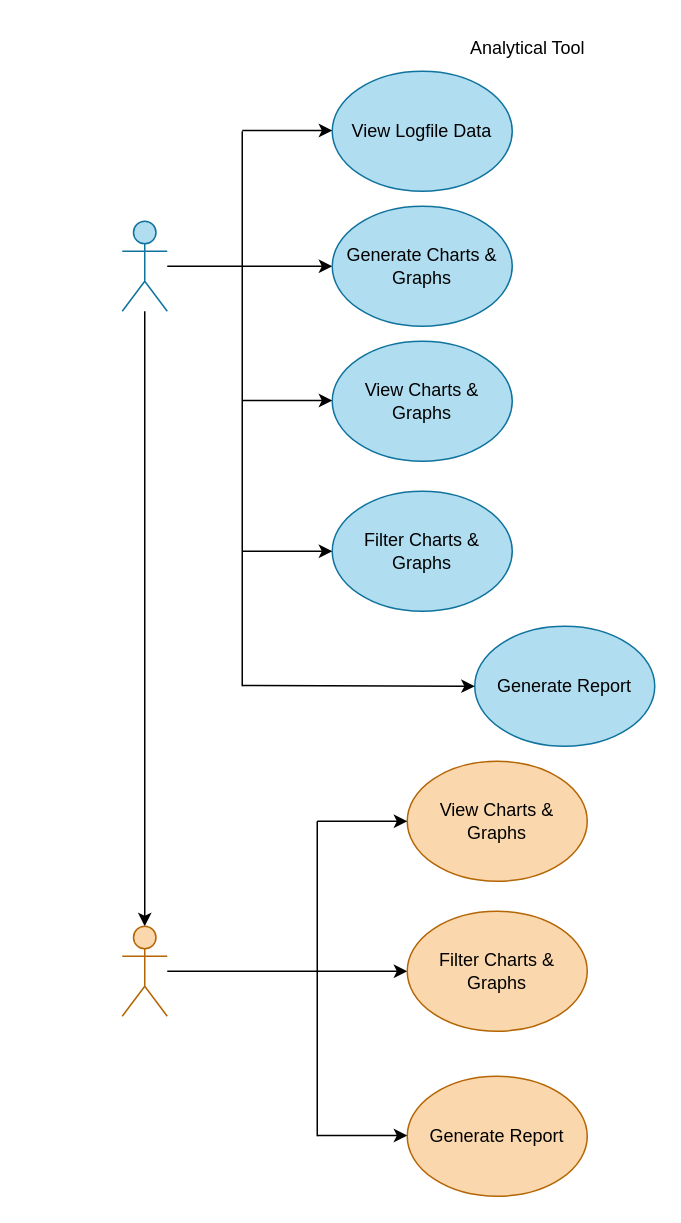
Some shapes in this 681 by 1223 pixel diagram are drawn without their labels. The centre of each missing label's shape, as x and y in pixels:
"Data Scientist" belongs at (x=144, y=265).
"Marketing & Advertising Team" belongs at (x=144, y=970).
